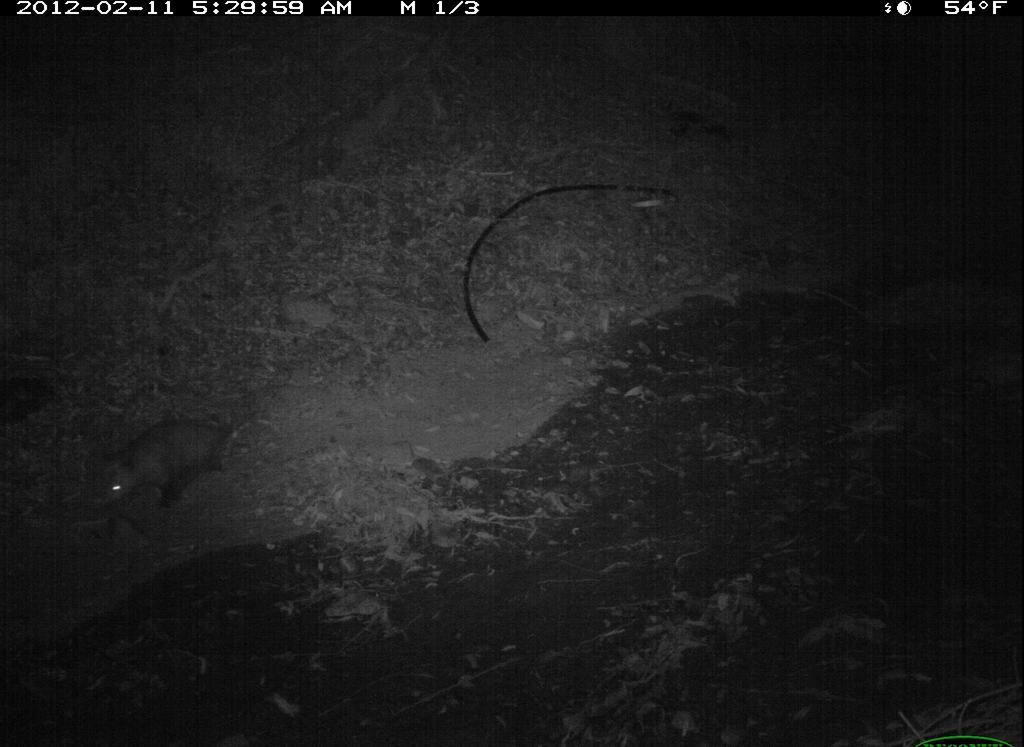opossum: (89, 399, 278, 533)
